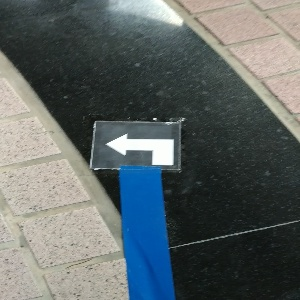left: (90, 120, 180, 173)
